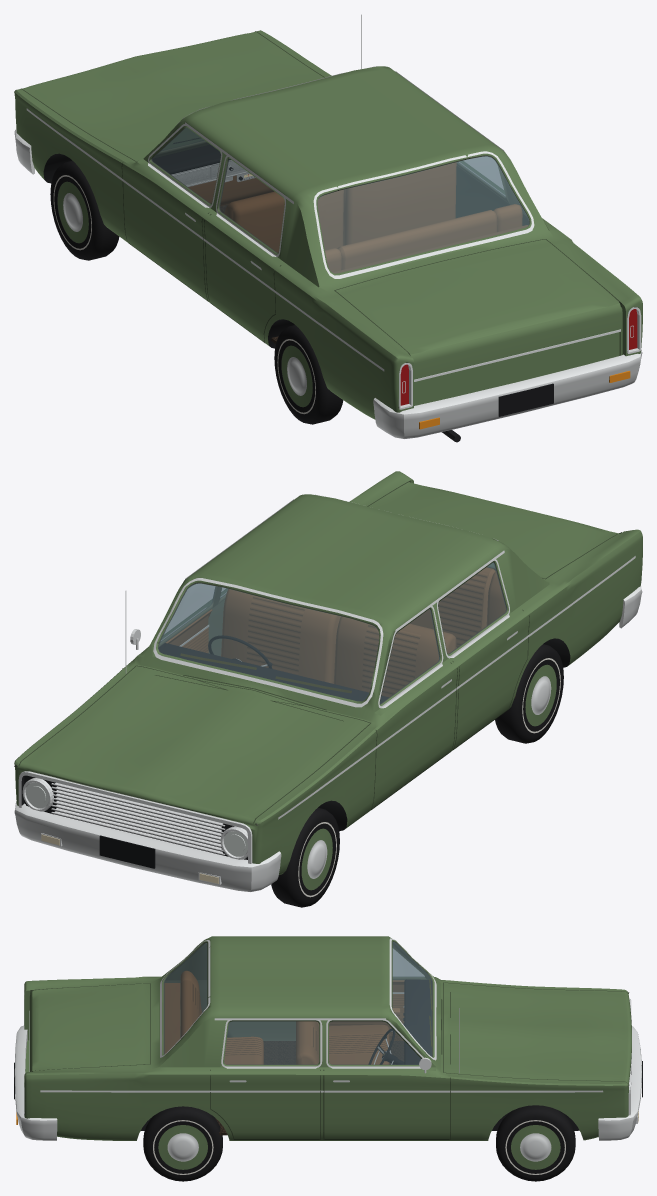
Rendered from valiant.glb.
3 views of the same model, one above another, from view 1: azimuth 30°, elevation 25°; view 2: azimuth 150°, elevation 25°; view 3: azimuth 270°, elevation 25° (orthographic). The views are drawn at different scales.
Parts seen in each view (by area): view 1: Valiant, TailR, TailL; view 2: Valiant; view 3: Valiant.
Boxes of the visible parts, x1,y1,x2,y2 form: Valiant: (14,14,642,442); TailR: (627,307,641,353); TailL: (398,363,412,409); Valiant: (14,471,642,907); Valiant: (14,936,642,1181).
Size of the model in its own units: 1.8 by 1.47 by 4.8.
Materials: 32 (8 with a texture image).
